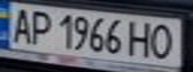1: (51, 11, 75, 48)
6: (103, 16, 127, 56), (87, 15, 109, 54)
9: (69, 12, 90, 52)
A: (6, 6, 36, 44)
H: (124, 19, 154, 58)
O: (145, 21, 181, 61)
P: (24, 7, 54, 46)
